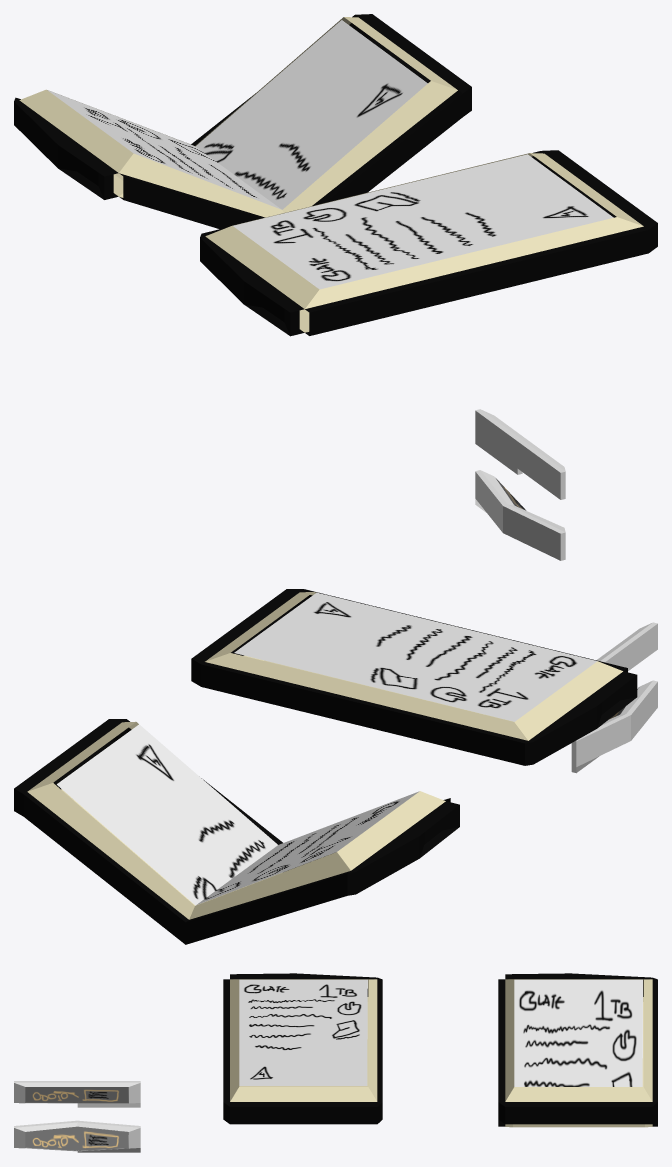
File: computerpart.fbx
3 views of the same model, one above another, from view 1: azimuth 30°, elevation 25°; view 2: azimuth 150°, elevation 25°; view 3: azimuth 270°, elevation 25° (orthographic). The views are drawn at different scales.
Visible parts, largest first — view 1: Cube, Cube.003, Cube.001, Cube.002; view 2: Cube.003, Cube, Cube.002, Cube.001; view 3: Cube.003, Cube, Cube.002, Cube.001.
Boxes of the visible parts, left/top/right/bottom form: Cube: left=200, top=150, right=657, bottom=336; Cube.003: left=14, top=14, right=471, bottom=229; Cube.001: left=475, top=409, right=565, bottom=499; Cube.002: left=475, top=470, right=565, bottom=560; Cube.003: left=14, top=719, right=459, bottom=944; Cube: left=191, top=589, right=637, bottom=765; Cube.002: left=571, top=680, right=657, bottom=773; Cube.001: left=596, top=622, right=657, bottom=670; Cube.003: left=498, top=973, right=657, bottom=1127; Cube: left=223, top=973, right=382, bottom=1124; Cube.002: left=14, top=1120, right=140, bottom=1152; Cube.001: left=14, top=1081, right=140, bottom=1107.
Bounding box in the file's own units: 703 × 341 × 1433.
9 materials, 3 textured.
